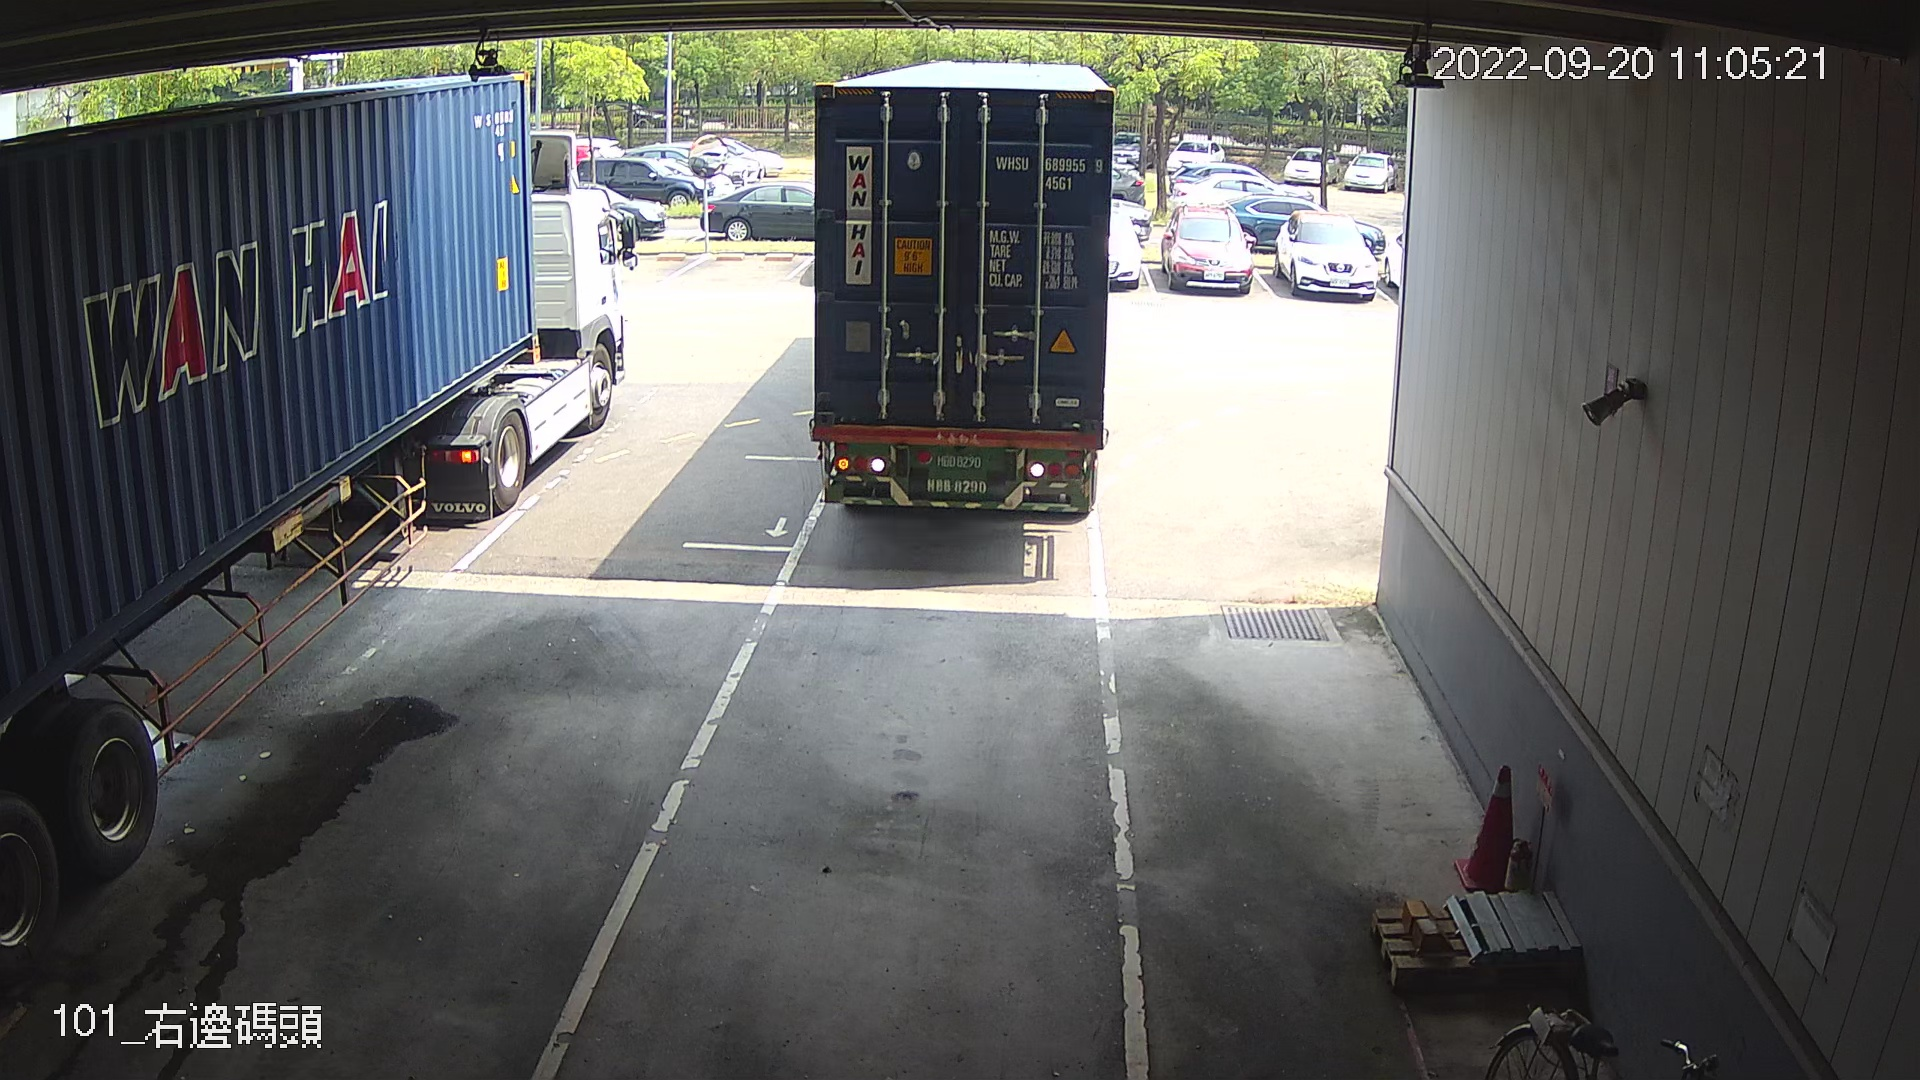container: (988, 146, 1106, 195)
